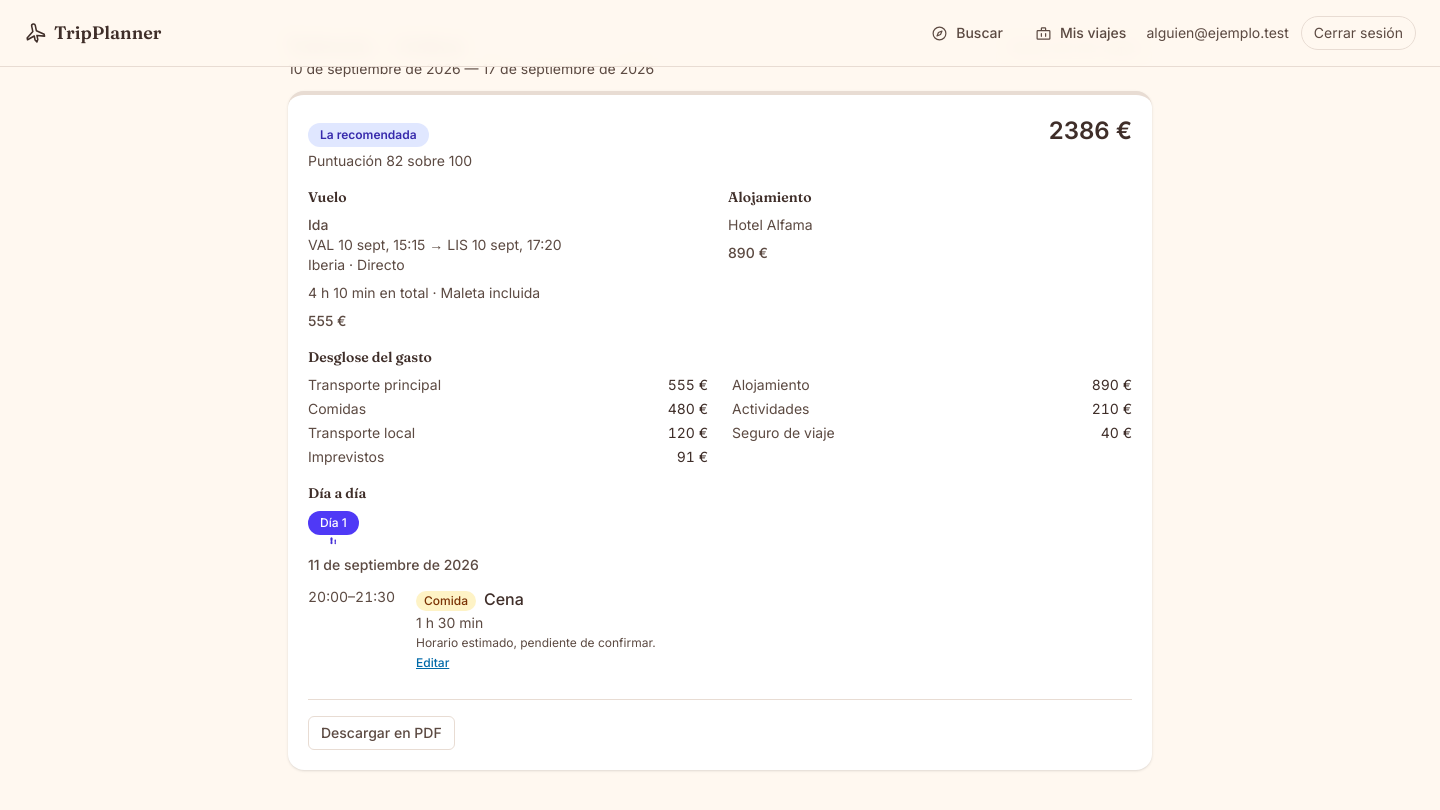
Test: Mis viajes guardados — edición del itinerario › avisa si el servidor rechaza la edición
The width and height of the screenshot is (1440, 810).
(page scrolled)
Click the button "Editar" at coordinates (433, 663), box [416,655,449,671]
(page scrolled)
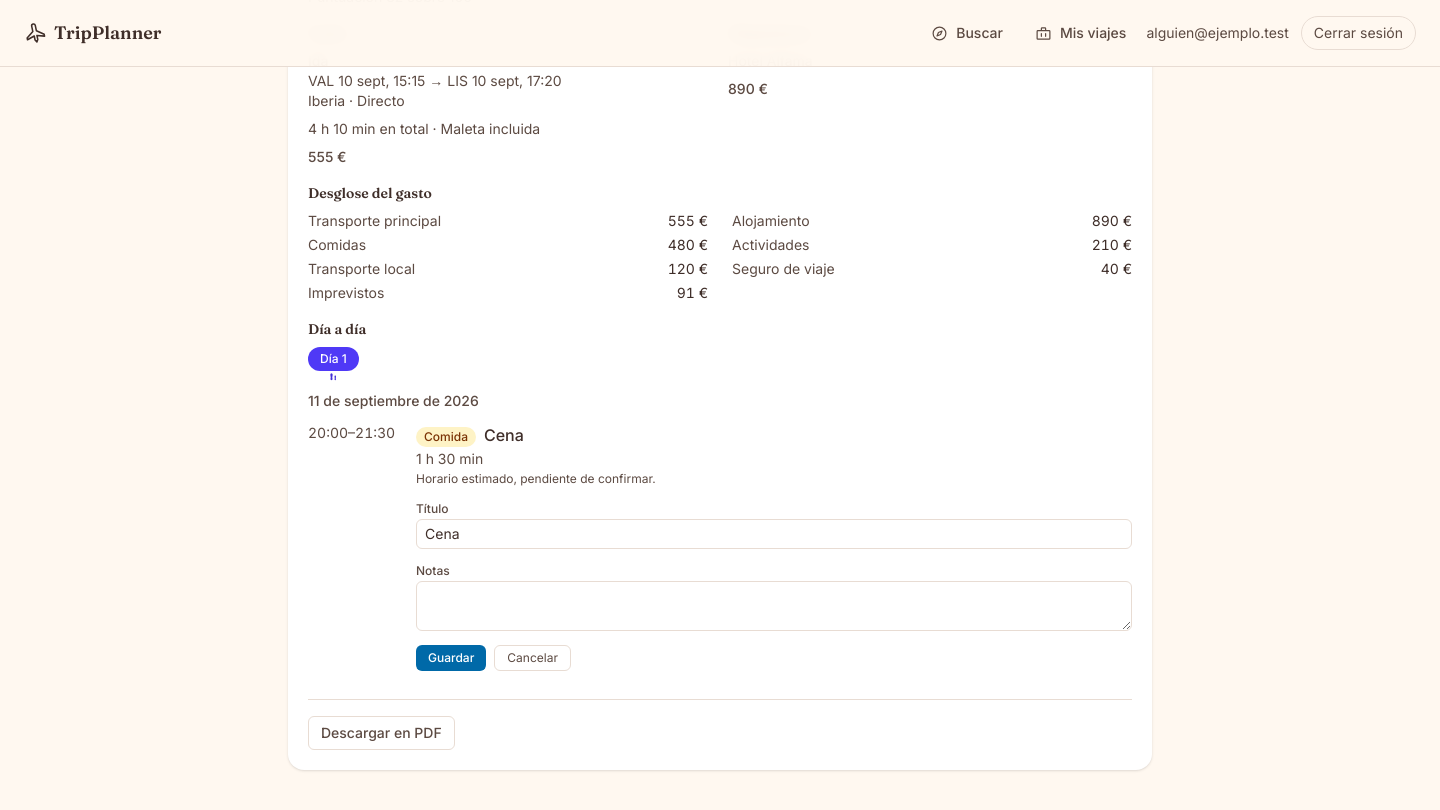
Click the button "Guardar" at coordinates (451, 658), box [416,645,486,671]
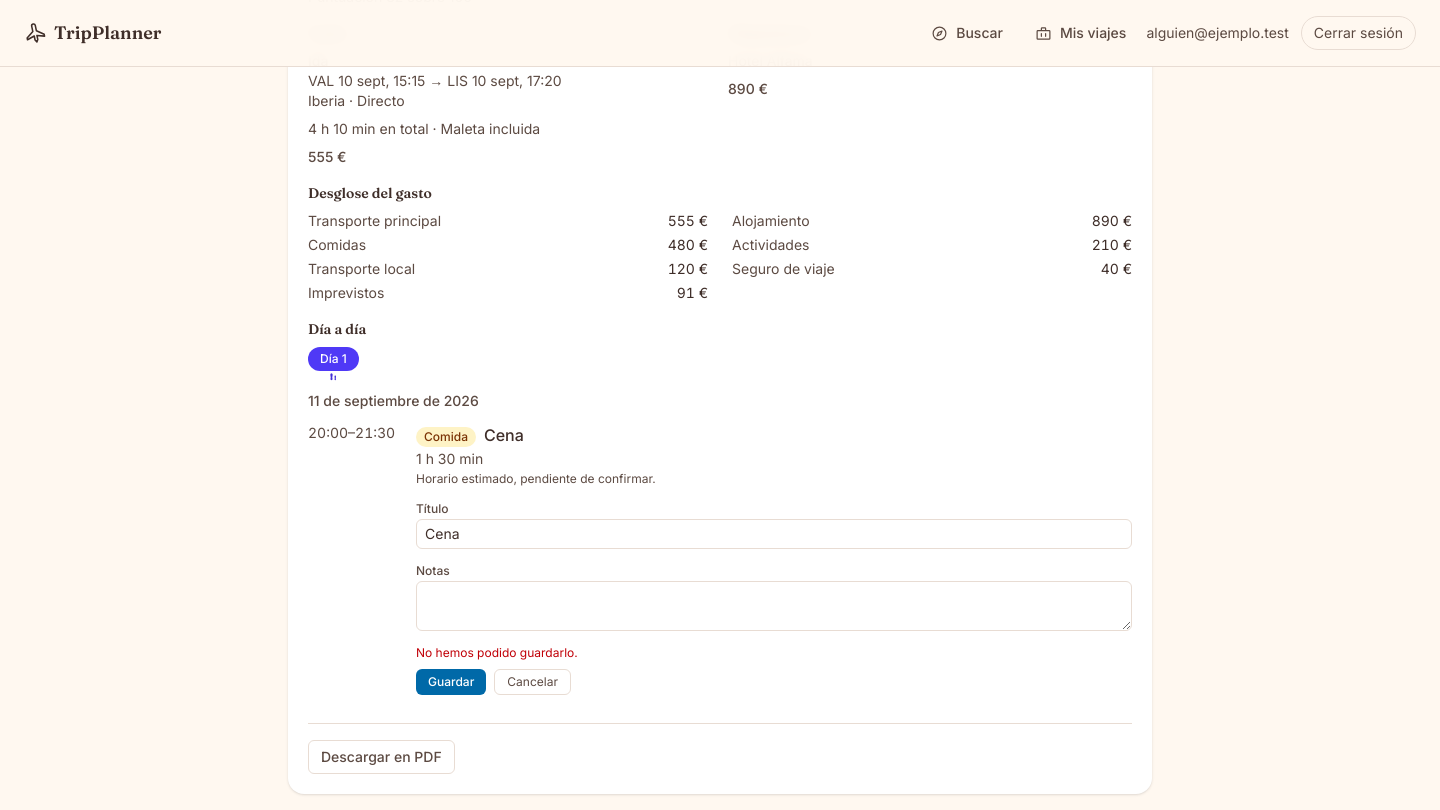
Now the text "No hemos podido guardarlo." is shown, box [416,645,578,660]
